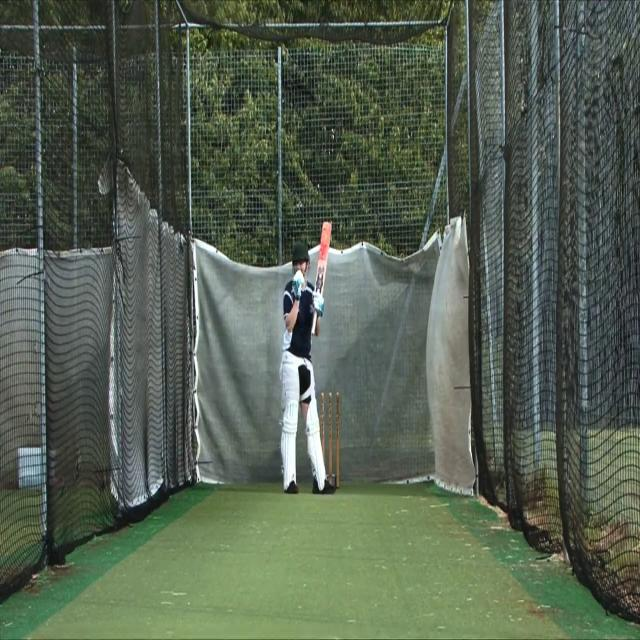batsman: (277, 217, 336, 498)
